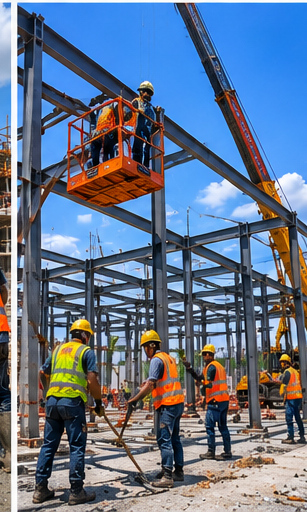hardhat: (131, 329, 164, 346), (68, 317, 98, 332), (274, 346, 298, 364), (199, 337, 217, 355), (135, 79, 159, 92)
person: (31, 310, 107, 502), (112, 325, 194, 496), (189, 338, 249, 469), (262, 343, 306, 455), (128, 74, 164, 167), (88, 86, 126, 163)
safety_vest: (43, 341, 90, 406), (148, 355, 185, 407), (201, 360, 230, 407), (130, 97, 160, 139), (275, 368, 302, 405), (88, 104, 117, 131)
